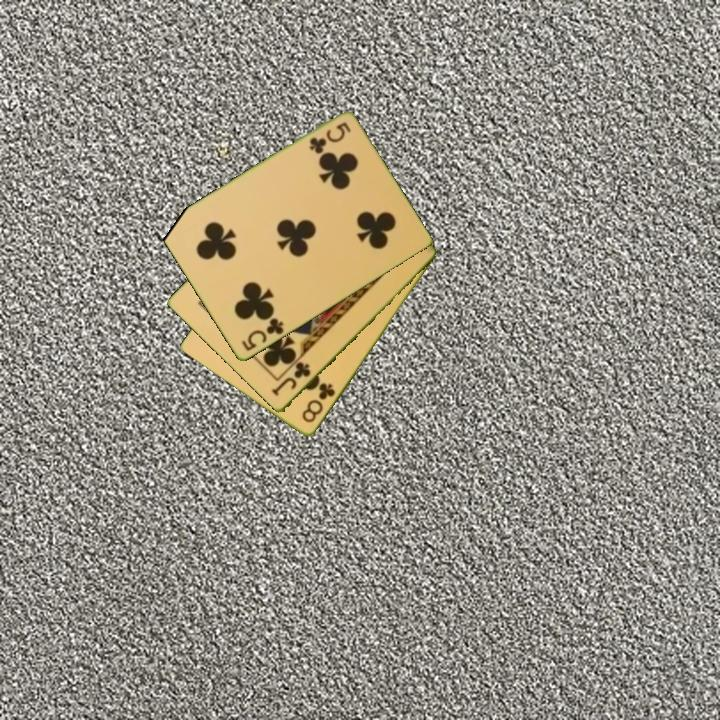5c: (238, 315, 287, 355), (305, 119, 354, 157)
8c: (298, 379, 338, 426)
Jc: (268, 359, 314, 399)
